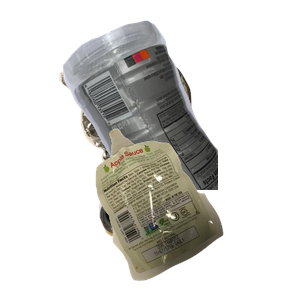glass: (96, 190, 230, 300)
metal: (57, 36, 241, 216)
plastic: (60, 18, 300, 198)
trash: (93, 126, 300, 300)
